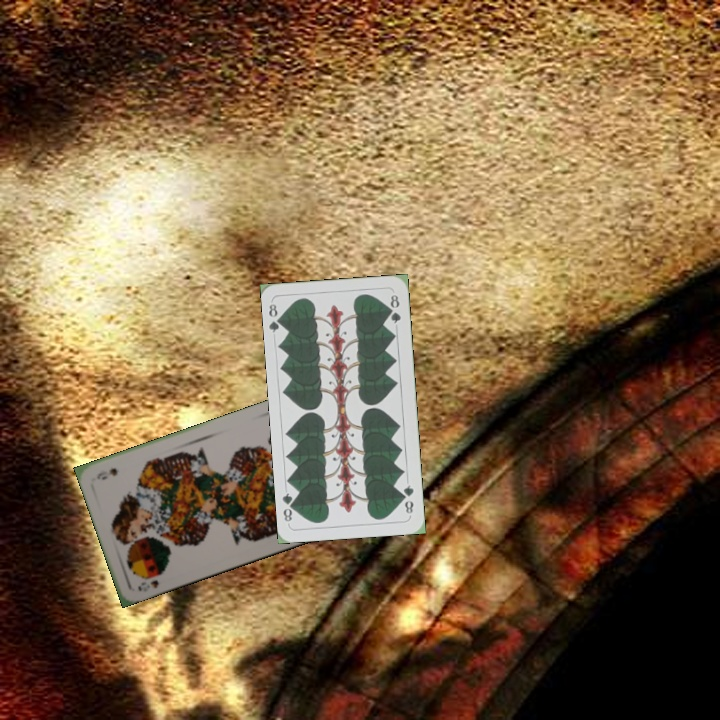G8: (265, 300, 286, 335), (399, 481, 416, 516)
SO: (134, 576, 161, 594)
